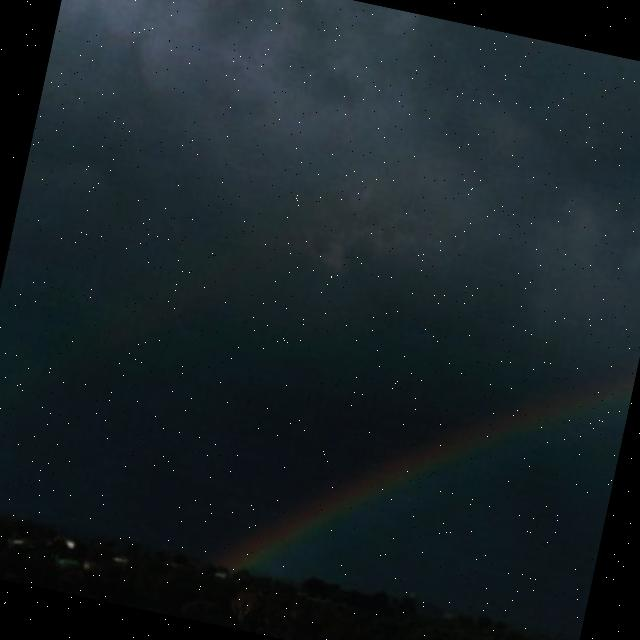St: (1, 1, 640, 532)
